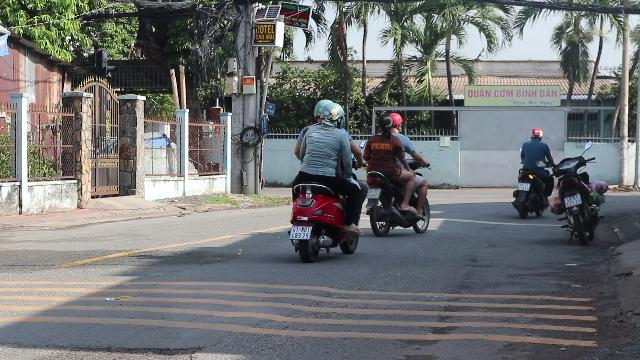helmet: (322, 102, 344, 126), (314, 99, 334, 124), (388, 112, 402, 130)
licenseplate: (288, 225, 312, 239), (366, 188, 380, 198)
motorcyclist: (283, 97, 365, 262), (362, 112, 432, 236)
nohelmet: (376, 114, 392, 134)
